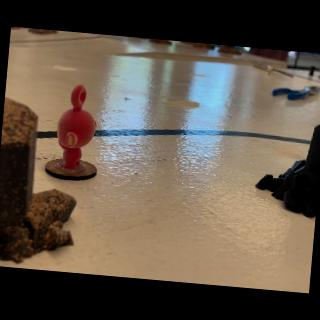teletubby: (57, 85, 96, 169)
